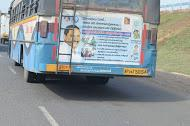Bus: (8, 0, 161, 85)
